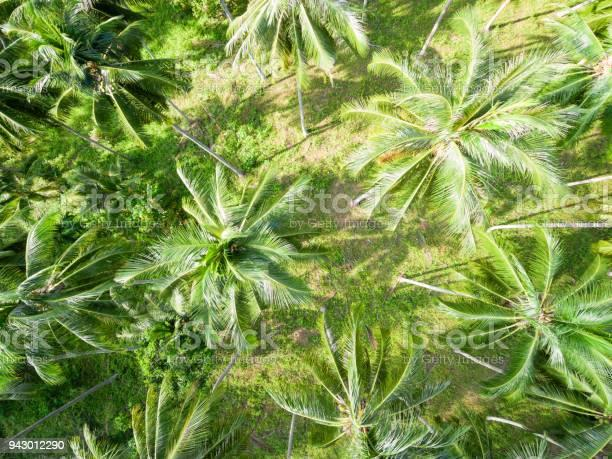coconut_tree: (355, 41, 578, 220), (146, 162, 316, 337), (466, 224, 611, 411), (20, 24, 178, 129)
